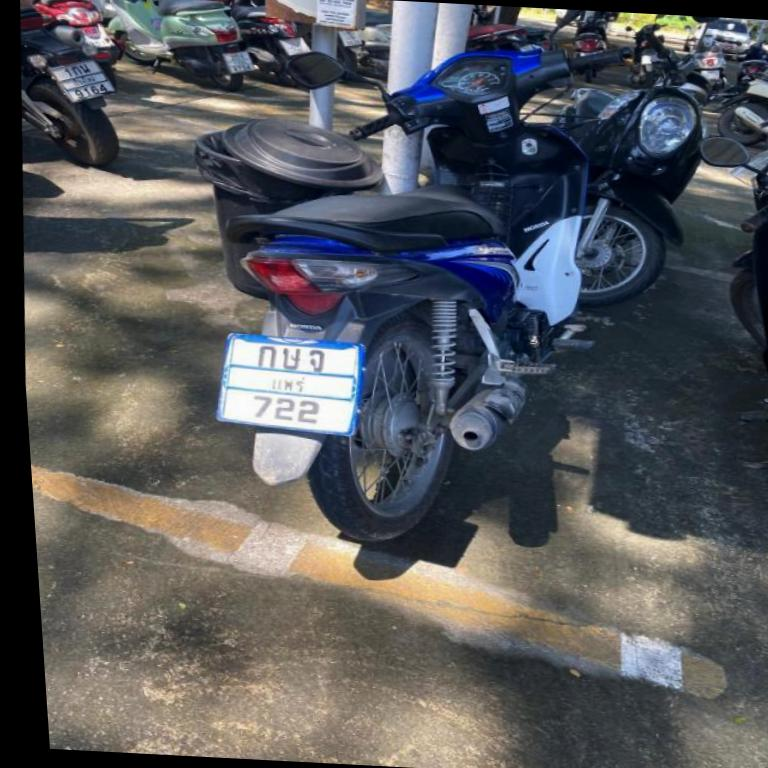license plate: (217, 334, 363, 433)
